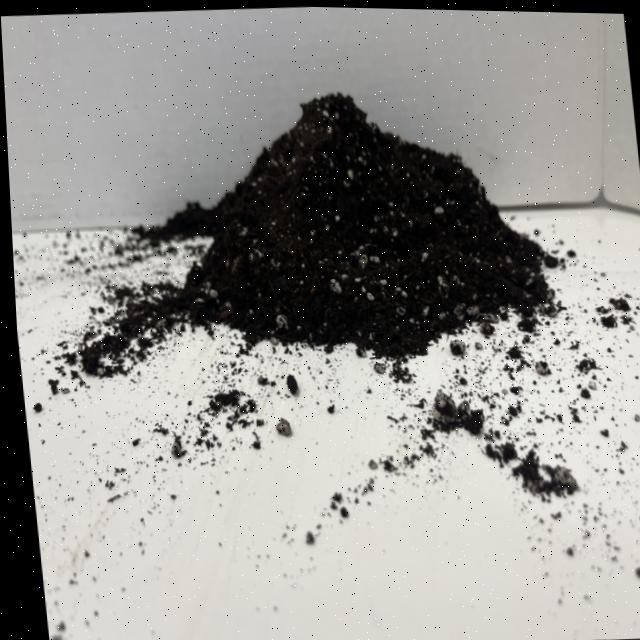soil: (150, 60, 578, 401)
